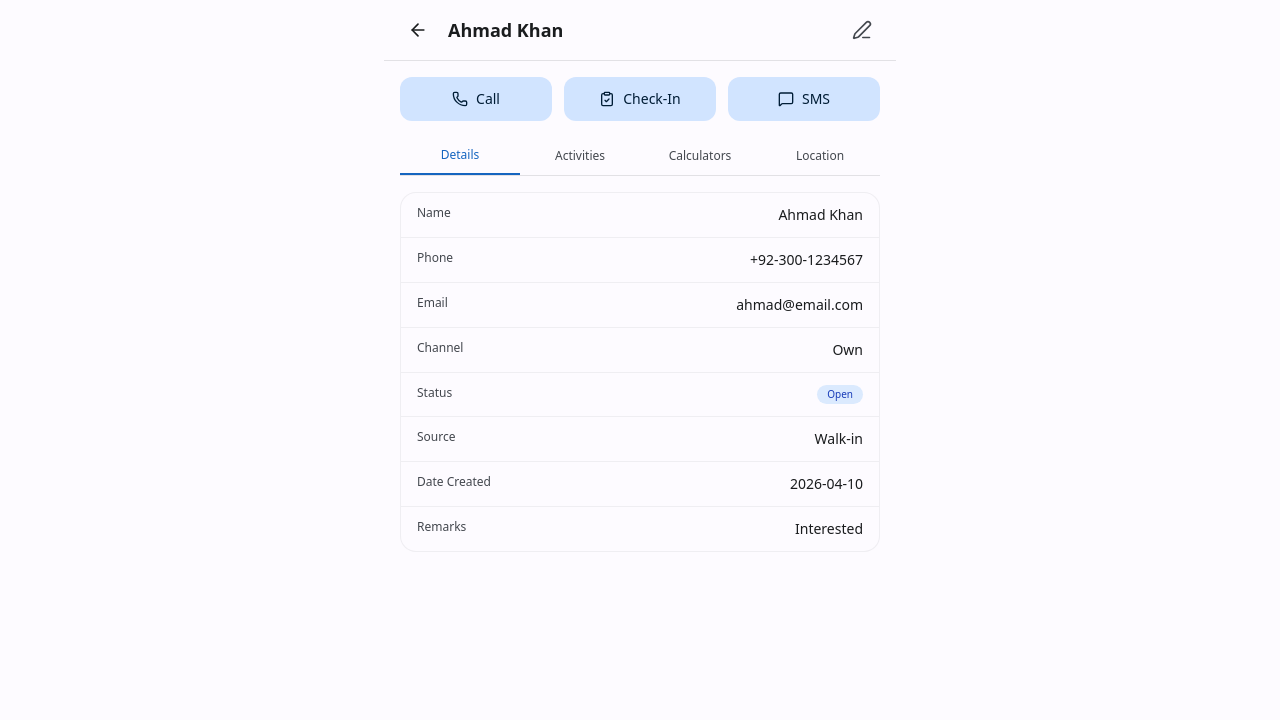
Test: LeadDetailContent › opens SMS bottom sheet when SMS button is clicked
What coordinates should you click on to do the following:
click the button "SMS"
I would click on:
 (804, 99)
Its box is [728,77,880,121].
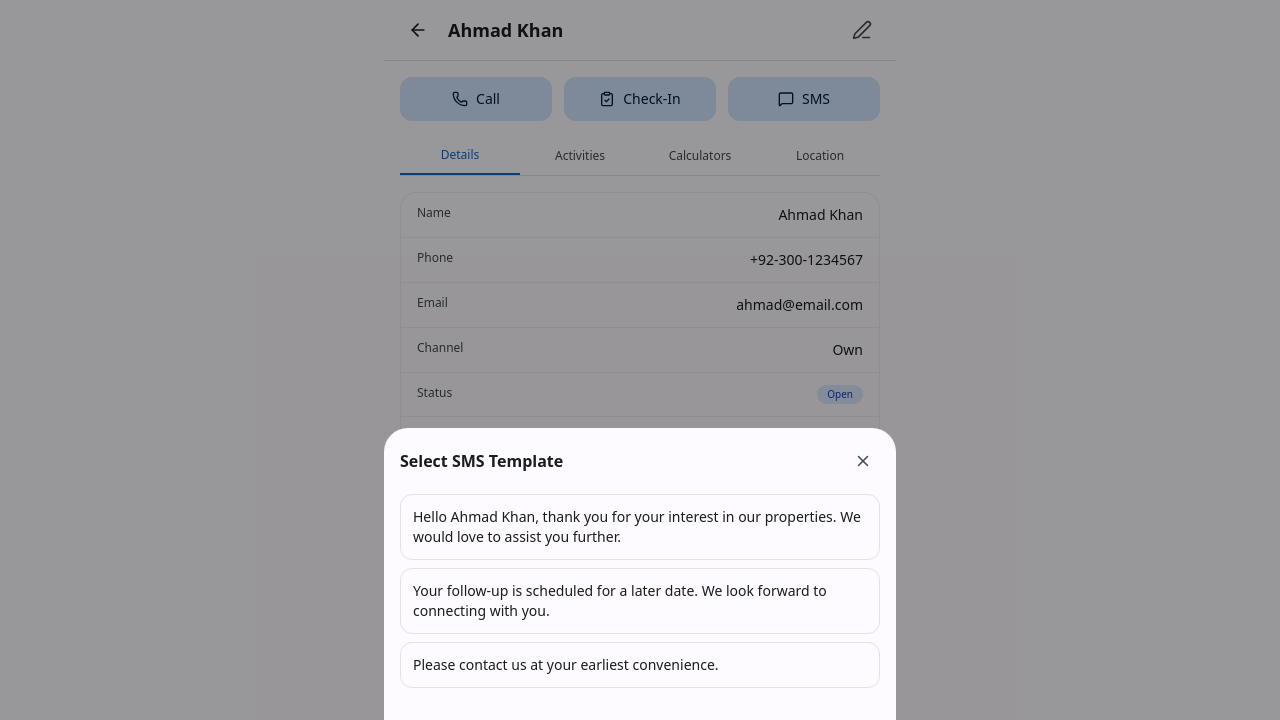
Now the heading "Select SMS Template" is shown, box [400,449,563,473]
